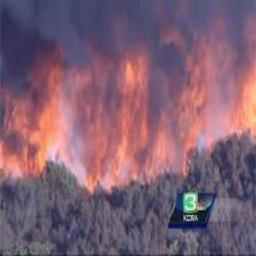Heavy smoke: (0, 0, 256, 126)
Large fire: (0, 51, 255, 155)
